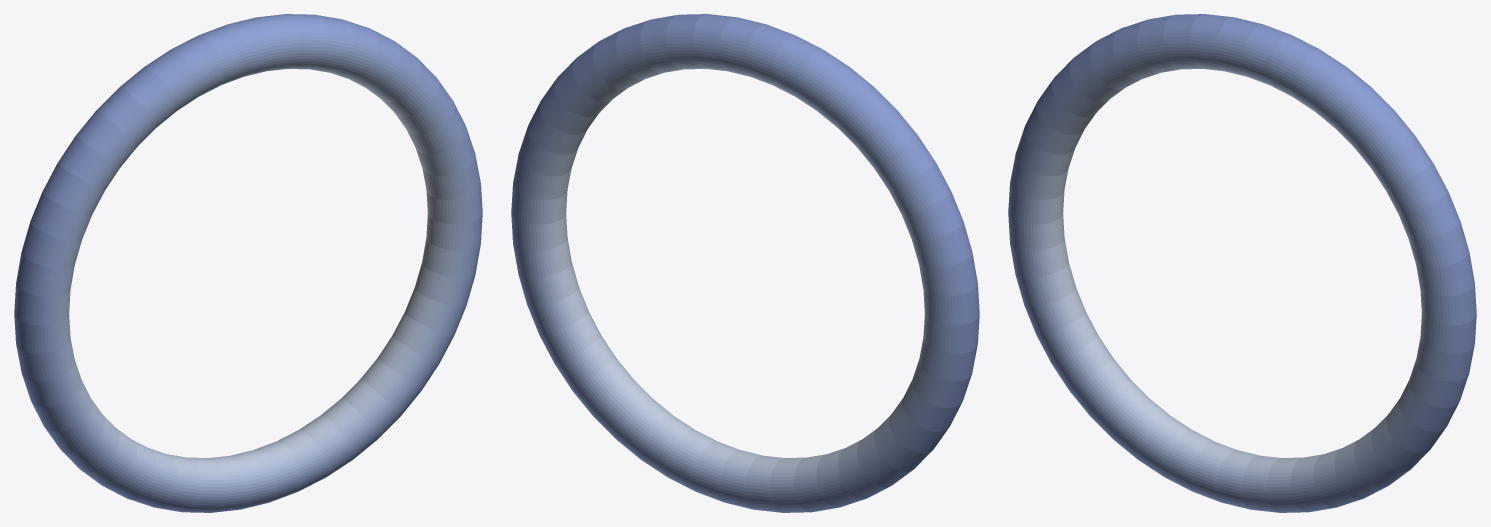
The picture shows the model from 3 angles, left to right: view 1: azimuth 30°, elevation 25°; view 2: azimuth 150°, elevation 25°; view 3: azimuth 330°, elevation 25°; orthographic projection.
Visible parts, largest first — view 1: world; view 2: world; view 3: world.
Boxes of the visible parts, <box> form: world: <box>14,14,482,512</box>; world: <box>511,14,979,512</box>; world: <box>1008,14,1476,512</box>.
Size of the model in its own units: 29.73 by 29.67 by 3.06.
